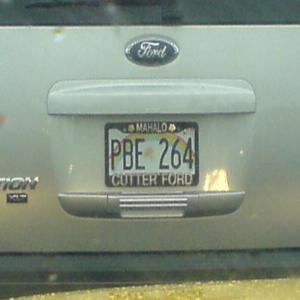Vehicle-registration-plate: (103, 123, 210, 191)
